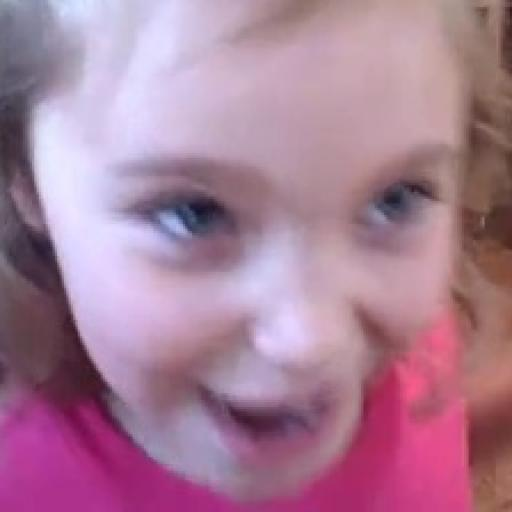Autism: (40, 2, 494, 506)
